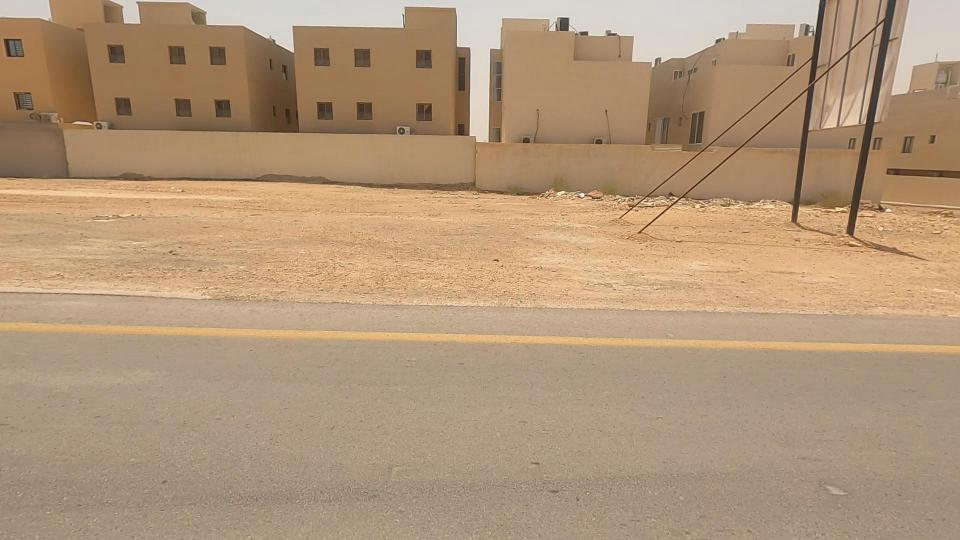GARBAGE: (545, 169, 579, 222), (569, 176, 606, 209)
